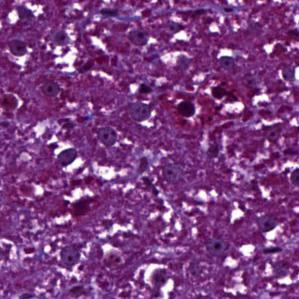inflammation: (202, 84, 245, 117), (50, 140, 87, 173), (140, 260, 176, 291), (4, 38, 39, 68), (7, 0, 44, 28), (161, 50, 193, 77), (257, 210, 284, 239)
